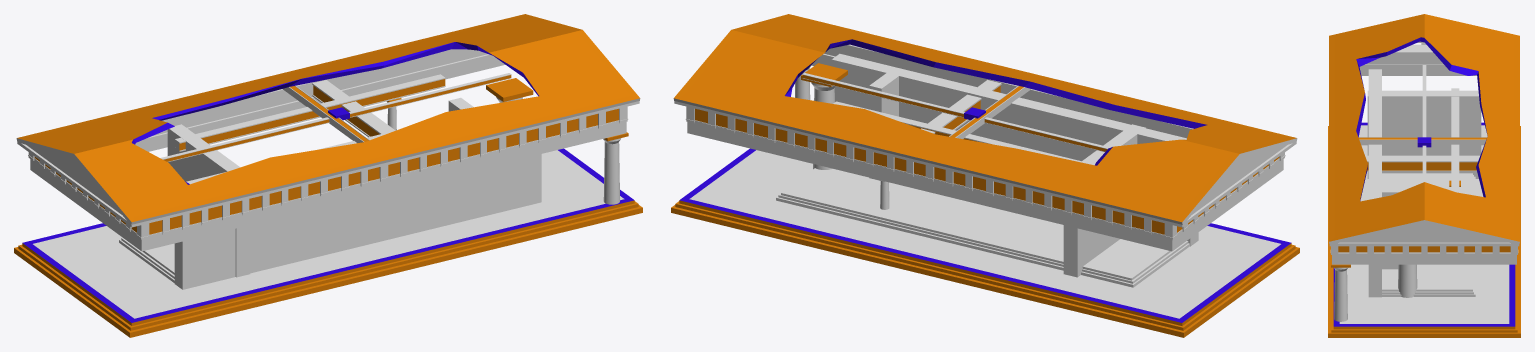
The model's file is templeOfZeus.fbx.
The picture shows the model from 3 angles, left to right: view 1: azimuth 30°, elevation 25°; view 2: azimuth 150°, elevation 25°; view 3: azimuth 270°, elevation 25°; orthographic projection. The views are drawn at different scales.
Parts seen in each view (by area): view 1: Entablature - 3v3, Foundation, wallLong, Entablature - 1 v2, Entablature - 2 v8, supportCeiling1, wallShort, supportCeiling3, supportRoof, Column-Outside, Foundation.001, supportCeiling2 (+1 smaller); view 2: Entablature - 3v3, Foundation, Foundation.001, Entablature - 2 v8, wallLong, Entablature - 1 v2, wallShort, supportCeiling3, supportCeiling1, supportRoof, Column - Entrance, wall (+1 smaller); view 3: Entablature - 3v3, Foundation, wallShort, Foundation.001, Entablature - 1 v2, Entablature - 2 v8, wallLong, supportRoof, supportCeiling2, supportCeiling1, Column-Outside, Column - Entrance (+3 smaller).
Boxes of the visible parts, left/top/right/bottom form: Entablature - 3v3: left=16, top=14, right=640, bottom=227; Foundation: left=14, top=148, right=642, bottom=337; wallLong: left=174, top=97, right=541, bottom=289; Entablature - 1 v2: left=30, top=54, right=626, bottom=251; Entablature - 2 v8: left=28, top=49, right=628, bottom=239; supportCeiling1: left=175, top=74, right=445, bottom=151; wallShort: left=167, top=124, right=250, bottom=277; supportCeiling3: left=160, top=73, right=511, bottom=161; supportRoof: left=312, top=80, right=395, bottom=137; Column-Outside: left=603, top=132, right=628, bottom=204; Foundation.001: left=119, top=237, right=174, bottom=282; supportCeiling2: left=283, top=85, right=369, bottom=143; Entablature - 3v3: left=673, top=14, right=1297, bottom=227; Foundation: left=671, top=148, right=1299, bottom=337; Foundation.001: left=776, top=168, right=1189, bottom=287; Entablature - 2 v8: left=685, top=44, right=1285, bottom=239; wallLong: left=831, top=53, right=1198, bottom=246; Entablature - 1 v2: left=687, top=54, right=1283, bottom=251; wallShort: left=1063, top=124, right=1145, bottom=277; supportCeiling3: left=802, top=73, right=1110, bottom=151; supportCeiling1: left=833, top=101, right=1081, bottom=162; supportRoof: left=921, top=80, right=1001, bottom=133; Column - Entrance: left=801, top=63, right=847, bottom=169; wall: left=869, top=72, right=901, bottom=180; Entablature - 3v3: left=1329, top=14, right=1519, bottom=246; Foundation: left=1328, top=122, right=1520, bottom=337; wallShort: left=1367, top=90, right=1481, bottom=178; Foundation.001: left=1382, top=173, right=1475, bottom=296; Entablature - 1 v2: left=1332, top=64, right=1516, bottom=264; Entablature - 2 v8: left=1330, top=43, right=1518, bottom=254; wallLong: left=1368, top=69, right=1381, bottom=297; supportRoof: left=1365, top=155, right=1479, bottom=171; supportCeiling2: left=1358, top=137, right=1486, bottom=145; supportCeiling1: left=1451, top=88, right=1459, bottom=192; Column-Outside: left=1331, top=256, right=1350, bottom=321; Column - Entrance: left=1398, top=264, right=1417, bottom=297.
Bounding box in the file's own units: 7367 × 1936 × 2890.
